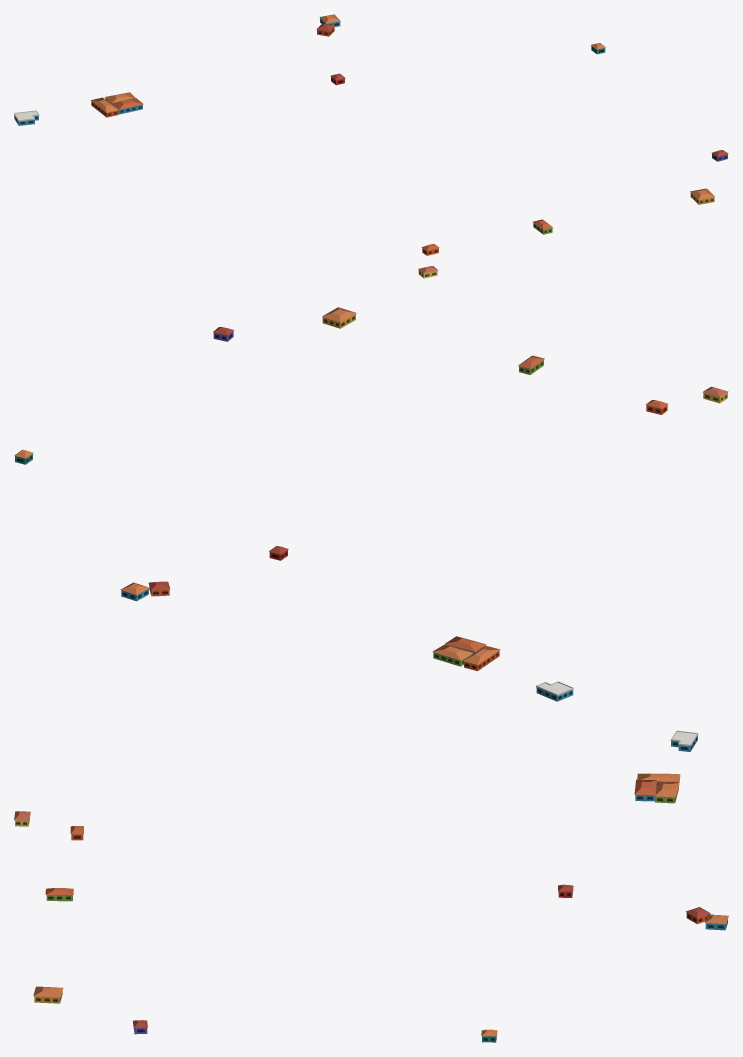
File: msb_oranjestad_m18_m1.glb
3 renders of one model, top to bottom at view 1: azimuth 30°, elevation 25°; view 2: azimuth 150°, elevation 25°; view 3: azimuth 270°, elevation 25°, orthographic. The views are drawn at different scales.
Visible parts, largest first — view 1: msb_oranjestad_m18_m1_lod0; view 2: msb_oranjestad_m18_m1_lod0; view 3: msb_oranjestad_m18_m1_lod0.
Boxes of the visible parts, <box> form: msb_oranjestad_m18_m1_lod0: <box>14,14,728,278</box>; msb_oranjestad_m18_m1_lod0: <box>14,307,728,701</box>; msb_oranjestad_m18_m1_lod0: <box>14,730,728,1042</box>.
Size of what is drawn, in the model's own units: 360 by 11.64 by 348.
3 materials, 1 textured.
